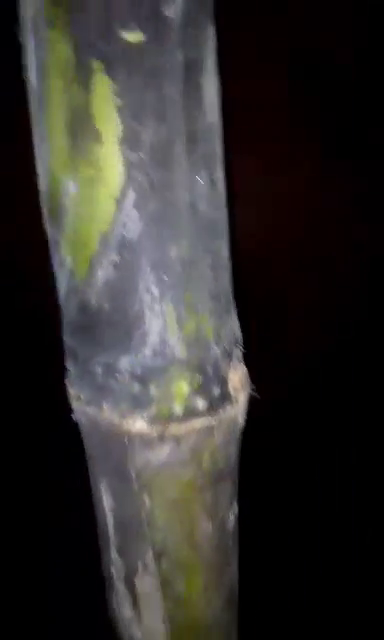cane eye: (222, 354, 259, 407)
